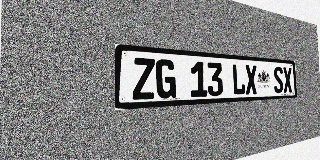1: (190, 61, 207, 97)
3: (207, 62, 223, 96)
G: (156, 59, 176, 99)
L: (232, 64, 245, 95)
S: (273, 66, 284, 93)
X: (245, 65, 257, 95), (283, 67, 292, 93)
Z: (132, 57, 155, 100)
